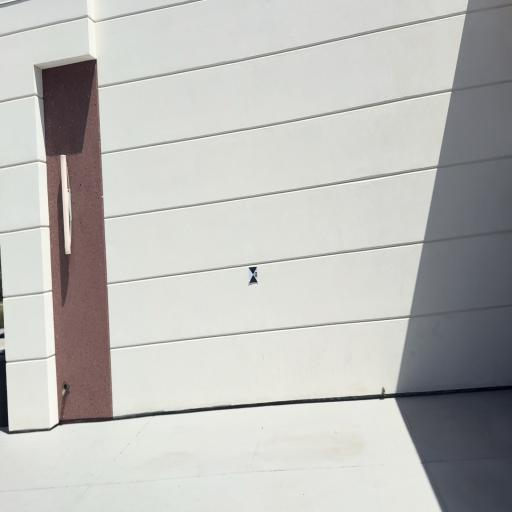target0: (248, 266, 258, 284)
